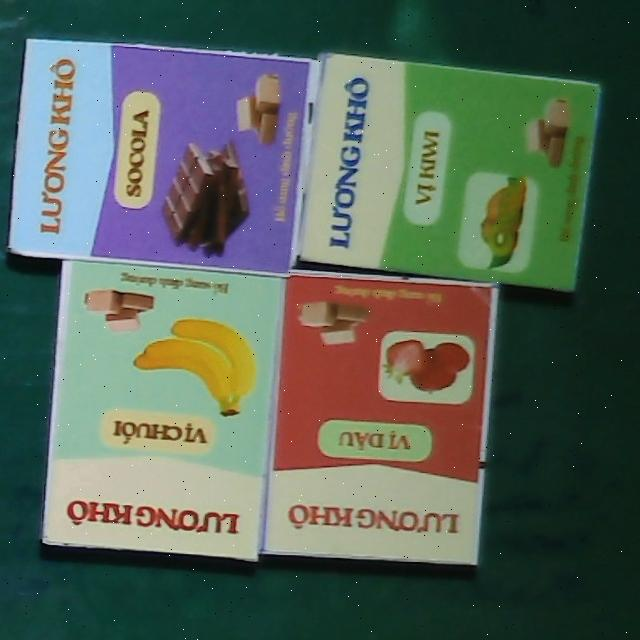chuoi: (41, 261, 284, 562)
dau: (263, 269, 496, 570)
kiwi: (295, 52, 601, 295)
socola: (5, 29, 314, 281)
